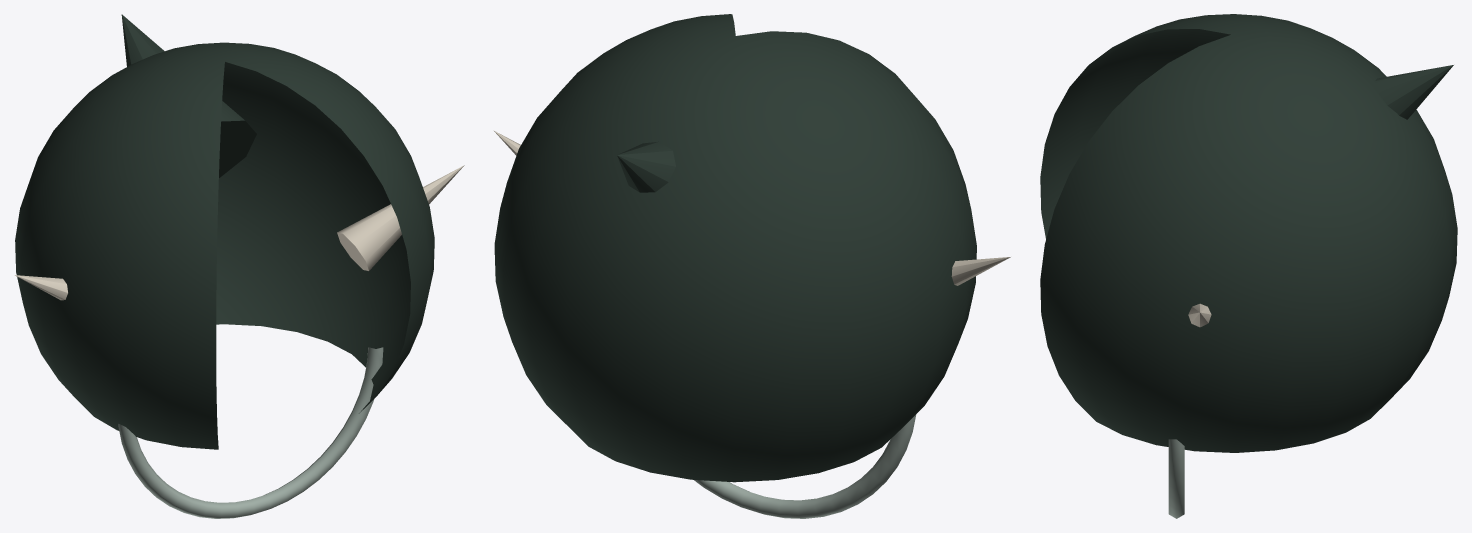
Rendered from elf-hood.glb.
The picture shows the model from 3 angles, left to right: view 1: azimuth 30°, elevation 25°; view 2: azimuth 150°, elevation 25°; view 3: azimuth 270°, elevation 25°; orthographic projection. The views are drawn at different scales.
Parts seen in each view (by area): view 1: hoodCloth, elfSilver, skinPale, hoodGreen; view 2: hoodCloth, elfSilver, hoodGreen, skinPale; view 3: hoodCloth, hoodGreen, elfSilver.
Boxes of the visible parts, left/top/right/bottom form: hoodCloth: left=15, top=42, right=434, bottom=449; elfSilver: left=118, top=347, right=383, bottom=518; skinPale: left=14, top=165, right=464, bottom=300; hoodGreen: left=121, top=14, right=256, bottom=177; hoodCloth: left=494, top=14, right=976, bottom=482; elfSilver: left=694, top=414, right=916, bottom=518; hoodGreen: left=617, top=141, right=675, bottom=192; skinPale: left=493, top=130, right=1010, bottom=285; hoodCloth: left=1040, top=14, right=1457, bottom=452; hoodGreen: left=1375, top=65, right=1453, bottom=119; elfSilver: left=1168, top=439, right=1184, bottom=518.
Size of the model in its own units: 0.7182 by 0.662 by 0.534.
